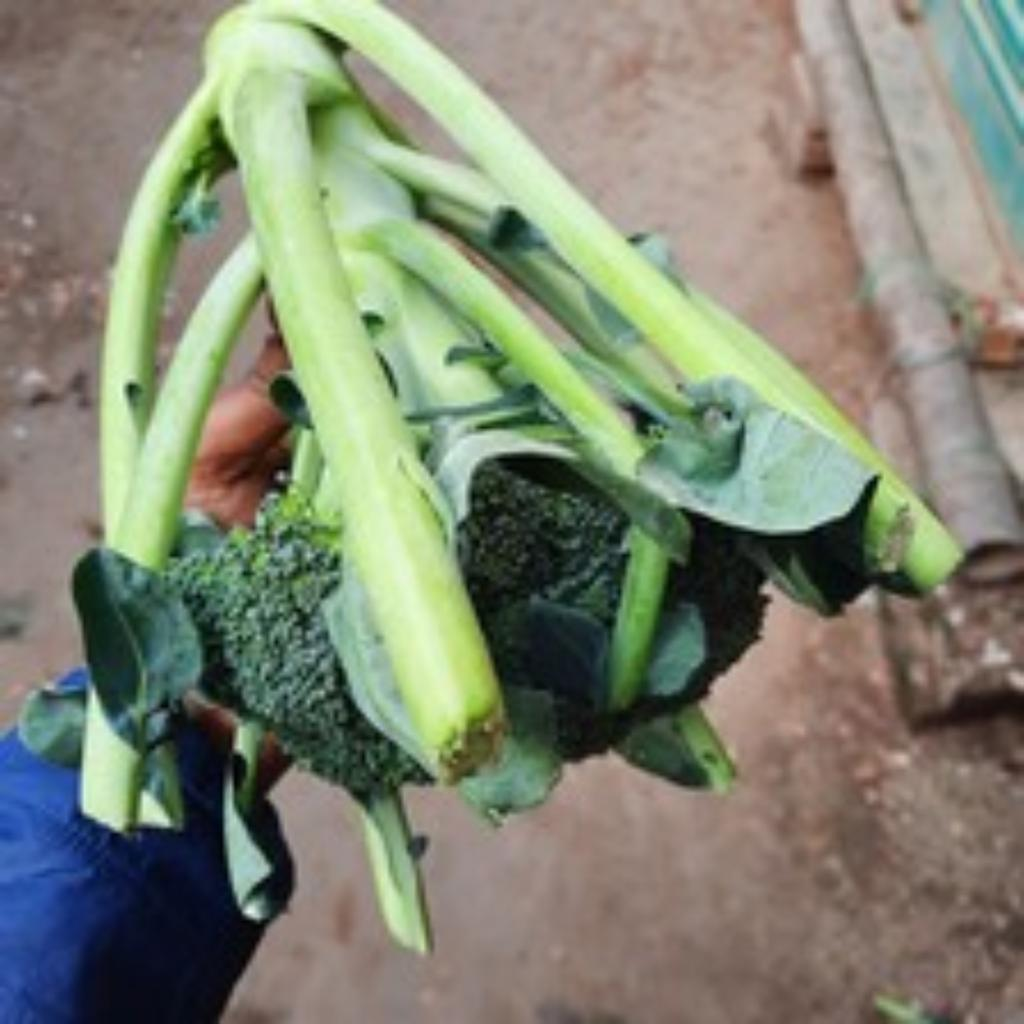Broccoli: (20, 494, 438, 949), (454, 462, 766, 817), (460, 464, 766, 757), (168, 504, 420, 795), (224, 748, 284, 920), (776, 504, 870, 607)
